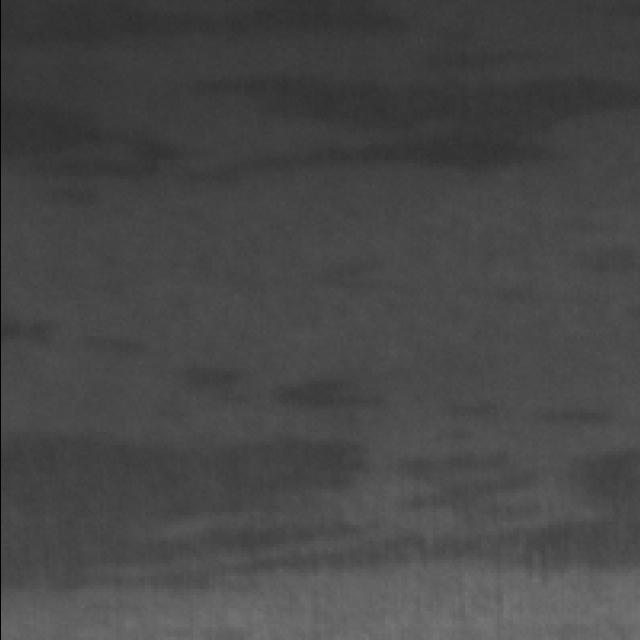inclusion: (170, 74, 640, 196), (0, 435, 392, 577), (403, 464, 640, 576), (0, 95, 145, 190), (278, 381, 368, 417), (176, 362, 232, 407)
